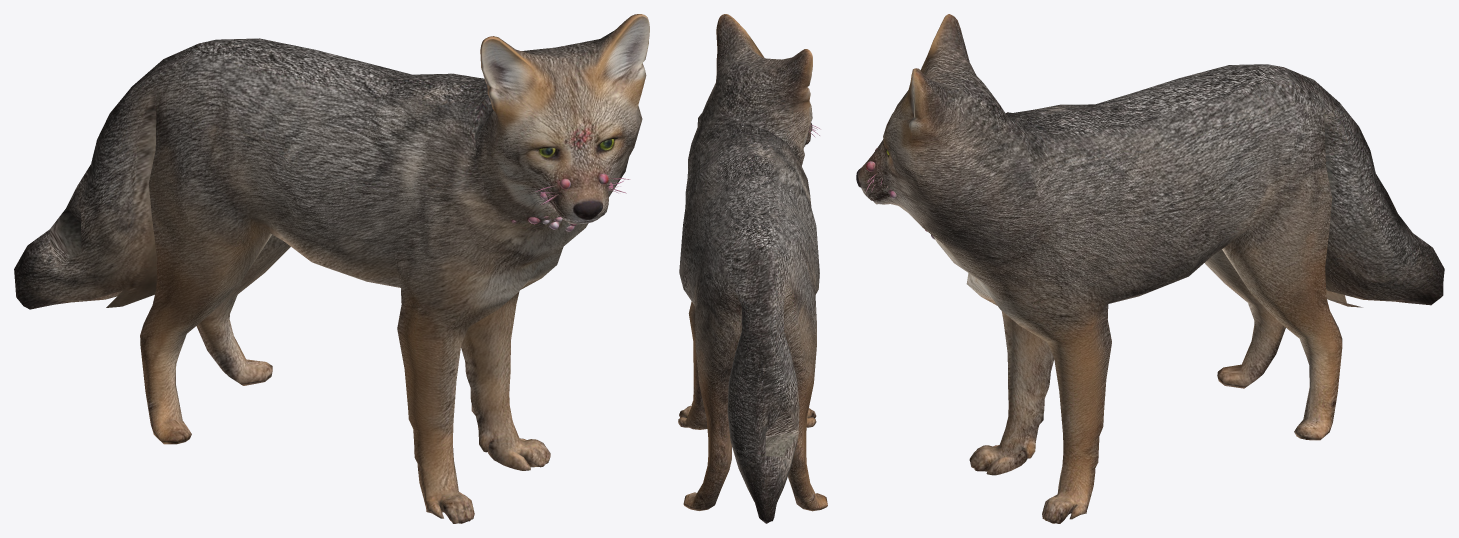
Rendered from Modelo_Zorro.glb.
The picture shows the model from 3 angles, left to right: view 1: azimuth 30°, elevation 25°; view 2: azimuth 150°, elevation 25°; view 3: azimuth 270°, elevation 25°; orthographic projection. The views are drawn at different scales.
Visible parts, largest first — view 1: tripo_node_855dec73-99b1-491c-9761-67b07a227667; view 2: tripo_node_855dec73-99b1-491c-9761-67b07a227667; view 3: tripo_node_855dec73-99b1-491c-9761-67b07a227667.
Part boxes in pixels (x1,y1,x2,y2): tripo_node_855dec73-99b1-491c-9761-67b07a227667: (14, 14, 649, 523); tripo_node_855dec73-99b1-491c-9761-67b07a227667: (678, 14, 827, 523); tripo_node_855dec73-99b1-491c-9761-67b07a227667: (856, 14, 1444, 523).
Size of the model in its own units: 0.6522 by 0.8681 by 1.
Materials: 1 (1 with a texture image).
